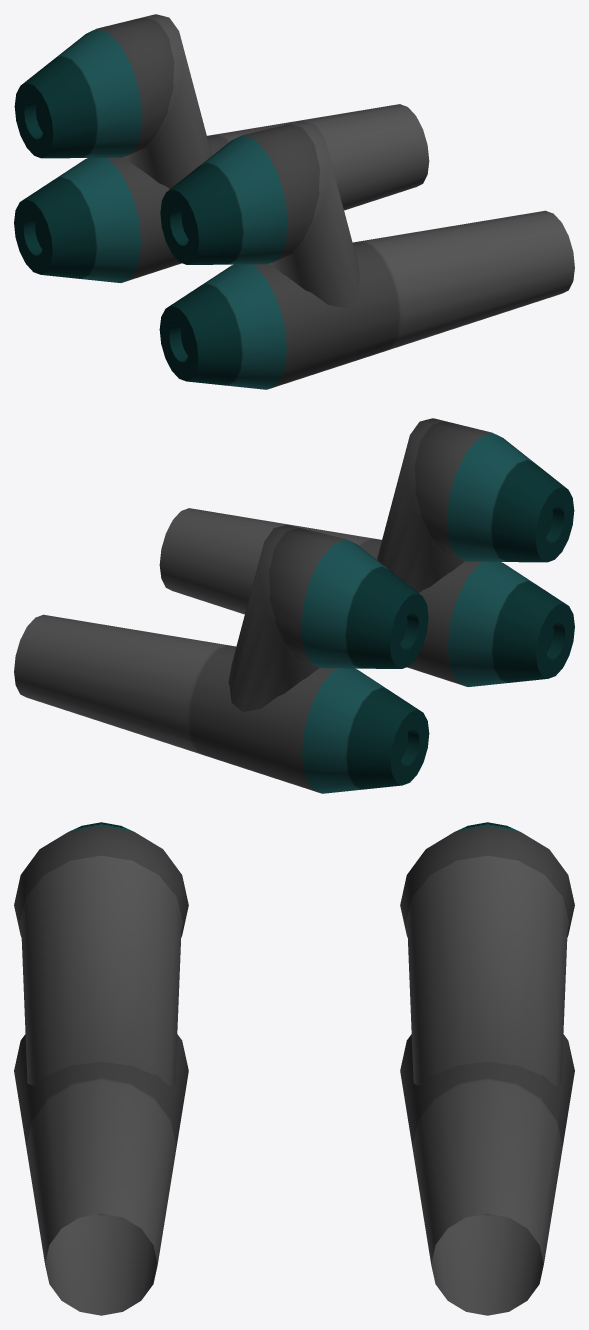
File: Report_Exhaust.FBX
3 views of the same model, one above another, from view 1: azimuth 30°, elevation 25°; view 2: azimuth 150°, elevation 25°; view 3: azimuth 270°, elevation 25° (orthographic). The views are drawn at different scales.
Visible parts, largest first — view 1: Exhaust_4; view 2: Exhaust_4; view 3: Exhaust_4.
Part boxes in pixels (x1,y1,x2,y2): Exhaust_4: (14, 14, 574, 389); Exhaust_4: (14, 418, 574, 793); Exhaust_4: (14, 822, 574, 1315).
Size of the model in its own units: 73.35 by 46.03 by 71.76.
